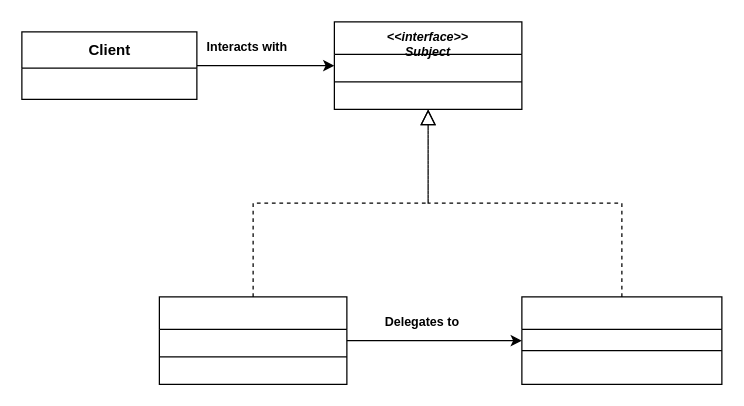
Some shapes in this 744 by 406 pixel diagram are drawn without their labels. The centre of each missing label's shape, as x and y in pixels:
Proxy: [252,340]
RealSubject: [621,340]
